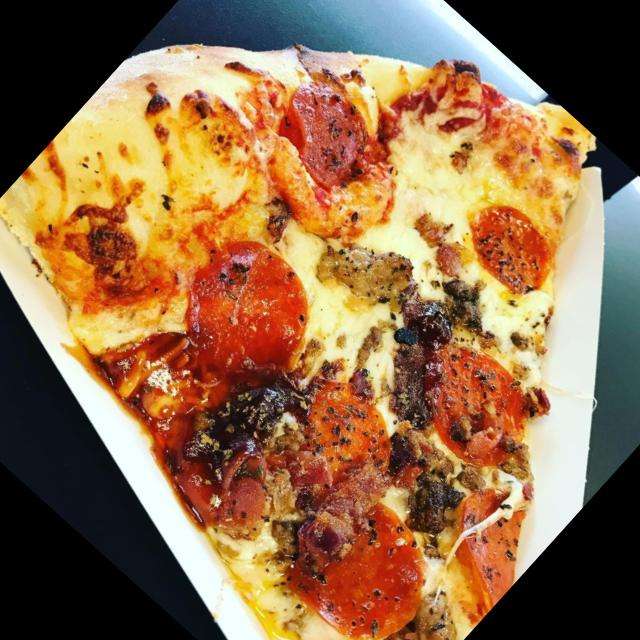pepperoni: (262, 467, 463, 640), (158, 218, 342, 402), (399, 327, 558, 486), (268, 364, 416, 511), (423, 470, 561, 610), (444, 182, 574, 312), (262, 72, 392, 201)
pizza: (0, 43, 595, 640)
